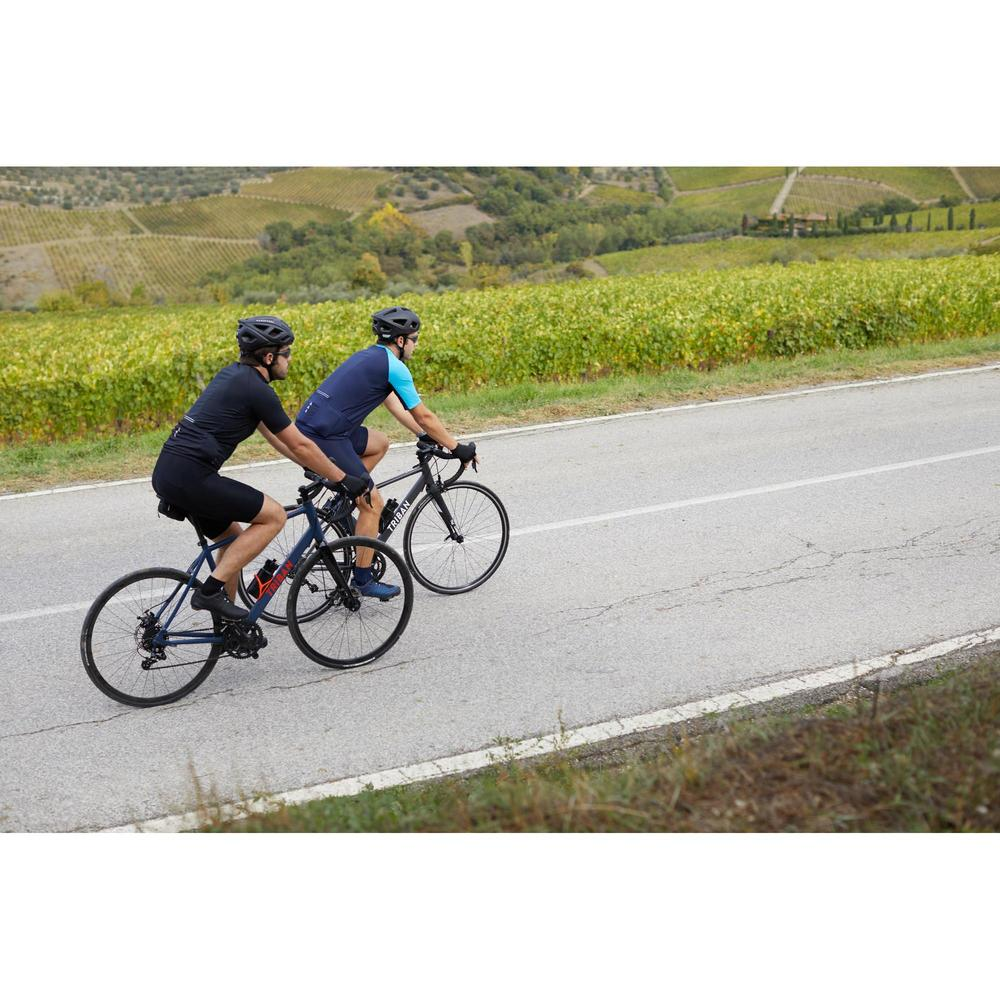RoadBike: (83, 446, 415, 702), (267, 421, 515, 642)
